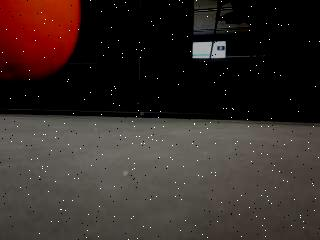Orange: (0, 0, 84, 89)
